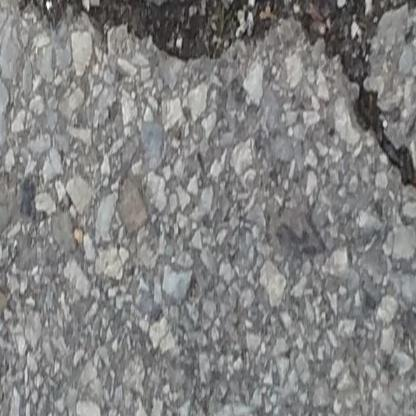Cracks: (18, 0, 416, 200)
